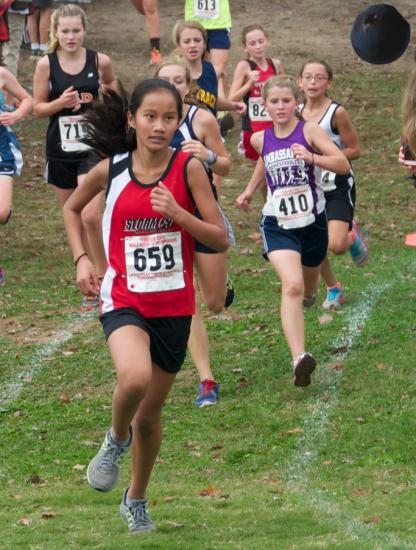Grape: (348, 4, 411, 67)
